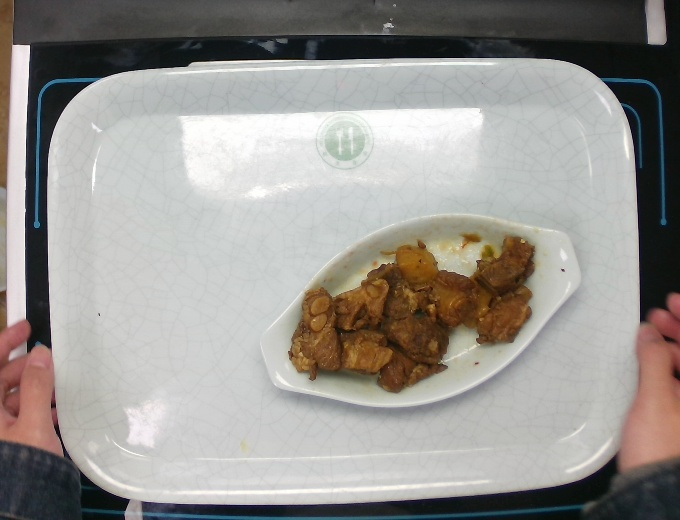JYsf-Yu_Pan: (256, 212, 583, 411)
